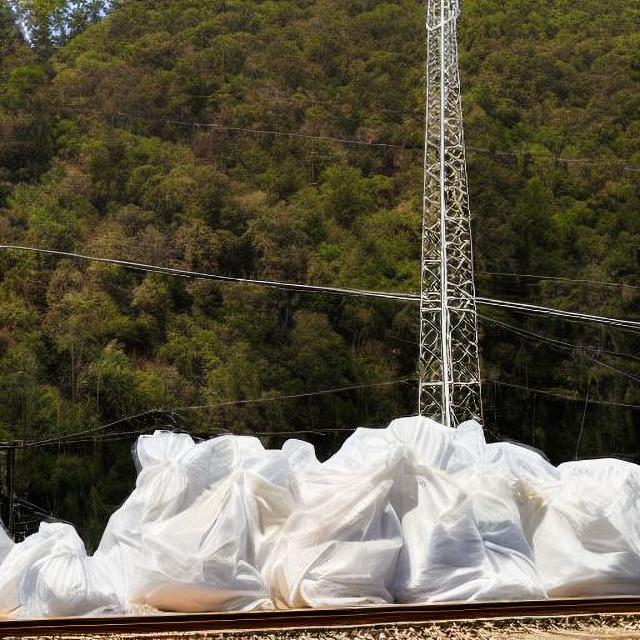plastic bag: (1, 422, 640, 606), (127, 431, 285, 600), (378, 416, 497, 604), (530, 460, 628, 587)
